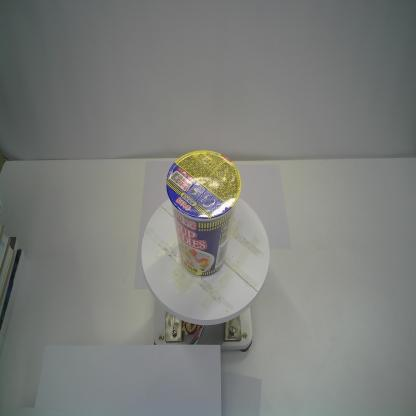Instant Noodles: (165, 149, 242, 278)
